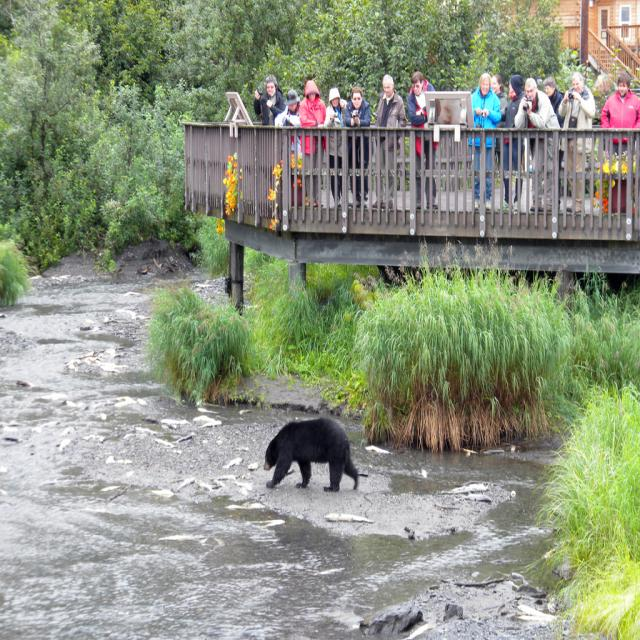Buffalo: (262, 415, 360, 496)
